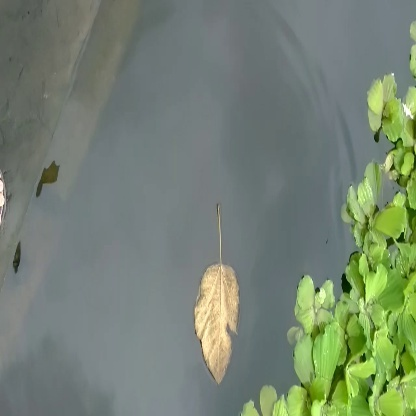leaf: (194, 193, 245, 385)
